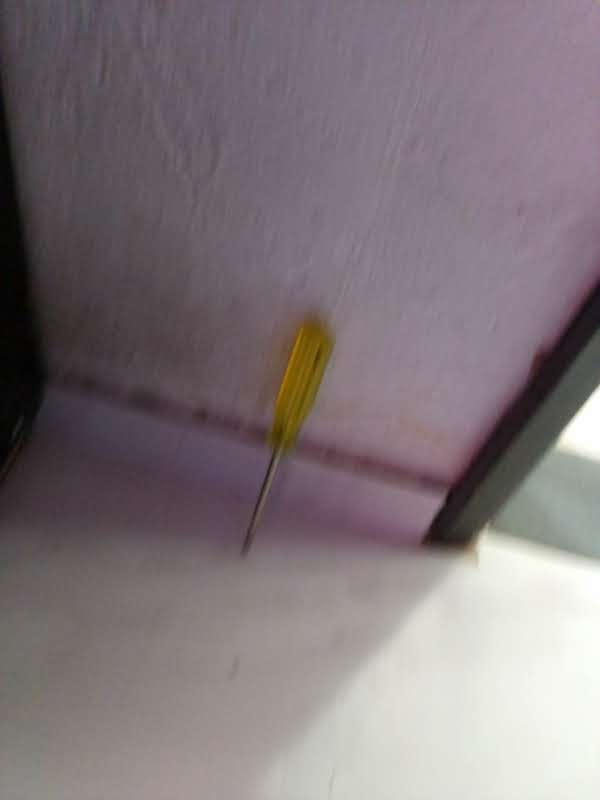Destornillador: (242, 319, 334, 556)
